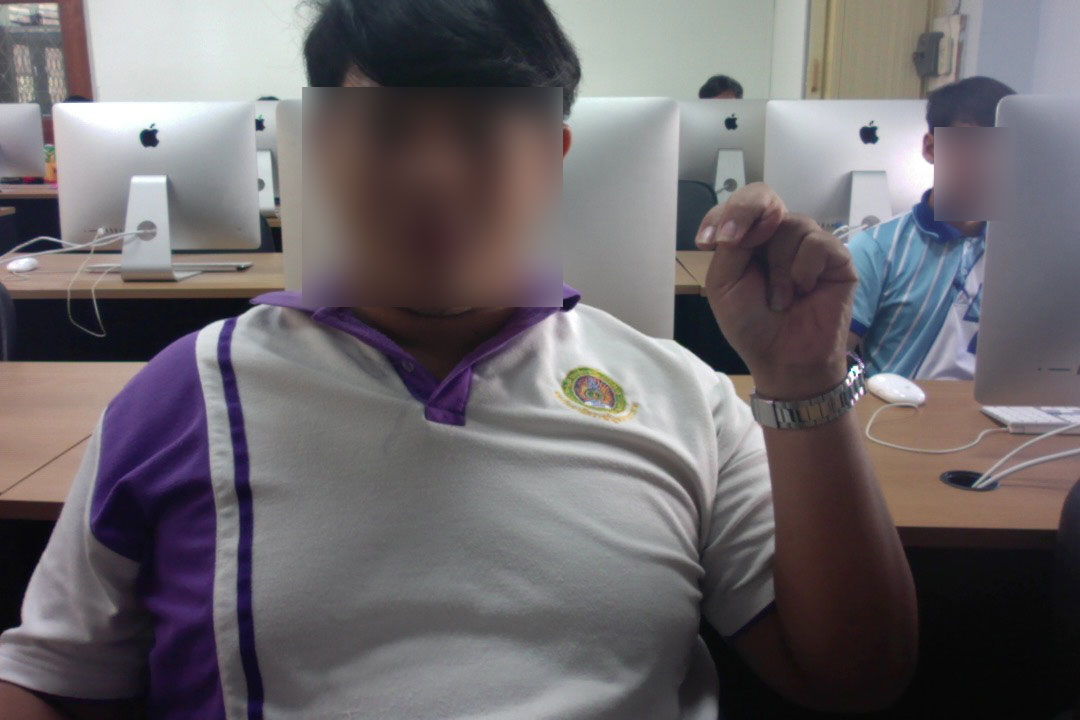nor: (684, 171, 863, 384)
